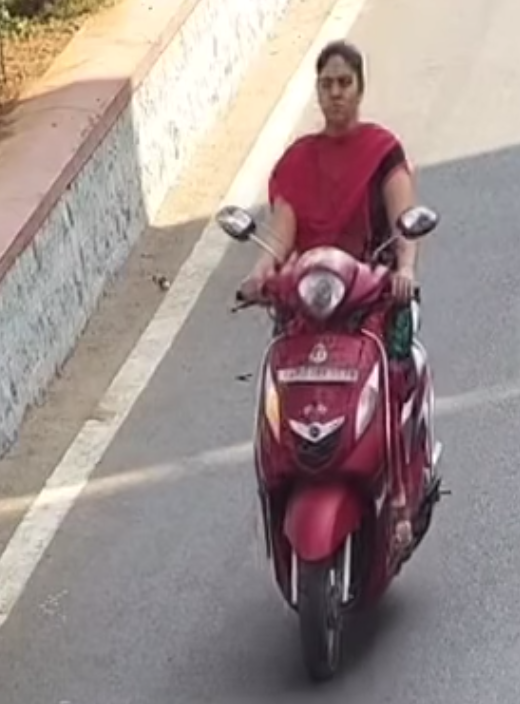h_bike: (219, 31, 446, 686)
h_nohelmet: (308, 32, 377, 131)
numplate: (273, 366, 363, 386)
